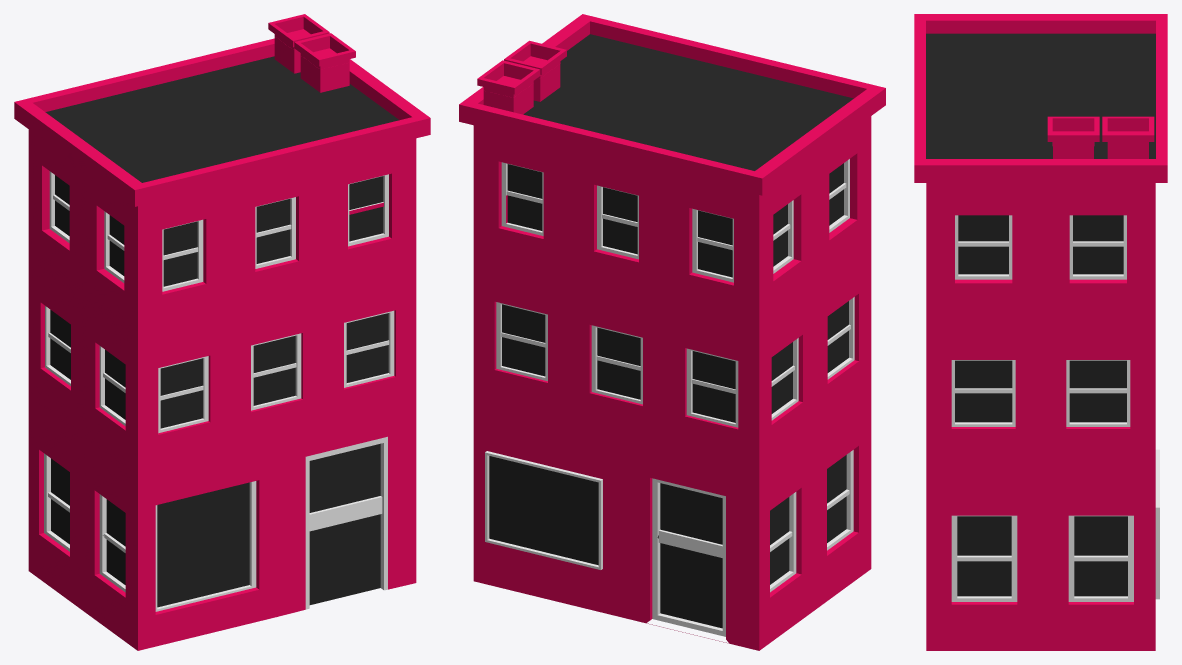
File: building_5.glb
3 renders of one model, left to right at view 1: azimuth 30°, elevation 25°; view 2: azimuth 150°, elevation 25°; view 3: azimuth 270°, elevation 25°, orthographic. The views are drawn at different scales.
Parts seen in each view (by area): view 1: Red Building; view 2: Red Building; view 3: Red Building.
Part boxes in pixels (x1,y1,x2,y2): Red Building: (14, 14, 430, 650); Red Building: (459, 14, 885, 650); Red Building: (914, 14, 1167, 650).
Bounding box in the file's own units: 0.7524 × 1.19 × 0.5312.
